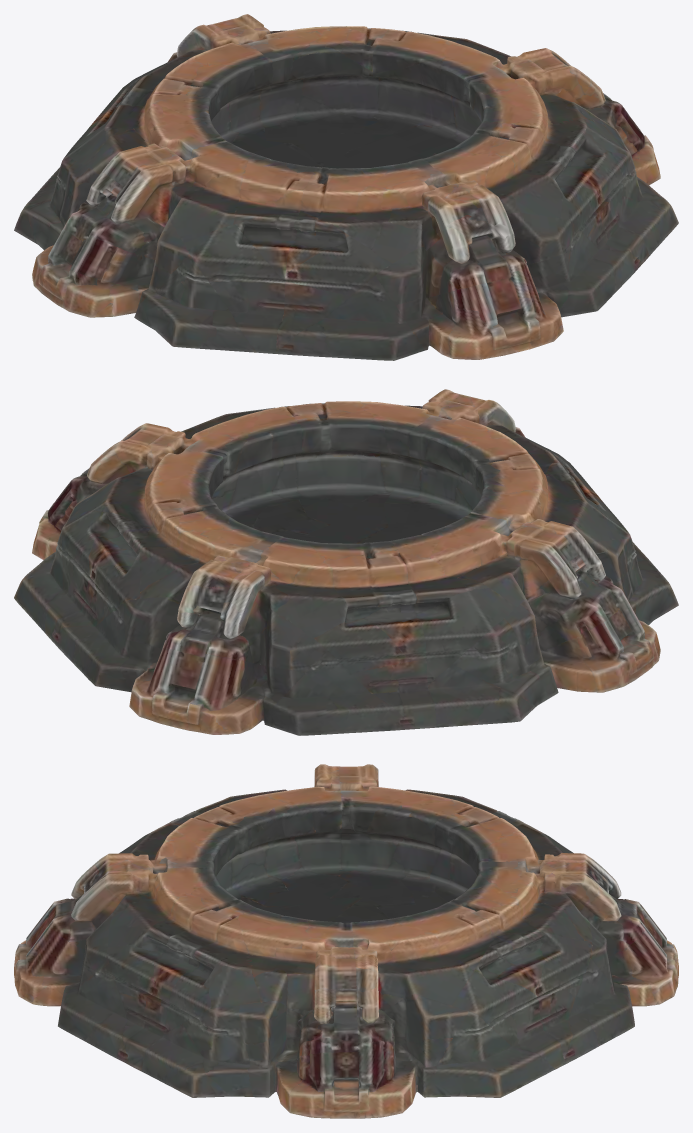
The model's file is arc-core-well-lean.glb.
The picture shows the model from 3 angles, top to bottom: view 1: azimuth 30°, elevation 25°; view 2: azimuth 150°, elevation 25°; view 3: azimuth 270°, elevation 25°; orthographic projection. The views are drawn at different scales.
Visible parts, largest first — view 1: chassis; view 2: chassis; view 3: chassis.
Boxes of the visible parts, left/top/right/bottom form: chassis: left=14, top=14, right=678, bottom=360; chassis: left=14, top=389, right=678, bottom=735; chassis: left=14, top=764, right=678, bottom=1118.
Bounding box in the file's own units: 0.9984 × 0.1894 × 0.9997.
1 material, 1 textured.
